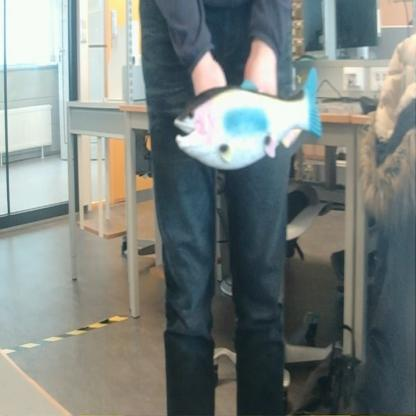rubberfish: (167, 62, 326, 174)
